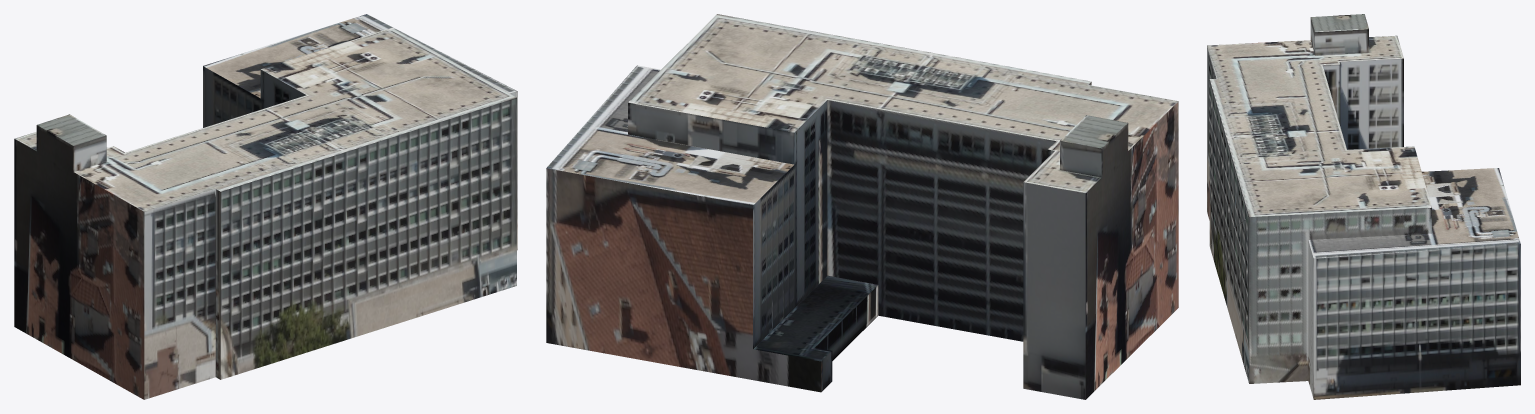
3 views of the same model, side by side, from view 1: azimuth 30°, elevation 25°; view 2: azimuth 150°, elevation 25°; view 3: azimuth 270°, elevation 25° (orthographic). The views are drawn at different scales.
Visible parts, largest first — view 1: Z_UP; view 2: Z_UP; view 3: Z_UP.
Boxes of the visible parts, x1=… form: Z_UP: x1=14, y1=14, x2=517, y2=399; Z_UP: x1=546, y1=14, x2=1178, y2=399; Z_UP: x1=1207, y1=14, x2=1520, y2=399.
Size of the model in its own units: 57.47 by 25.86 by 38.61.
2 materials, 1 textured.
